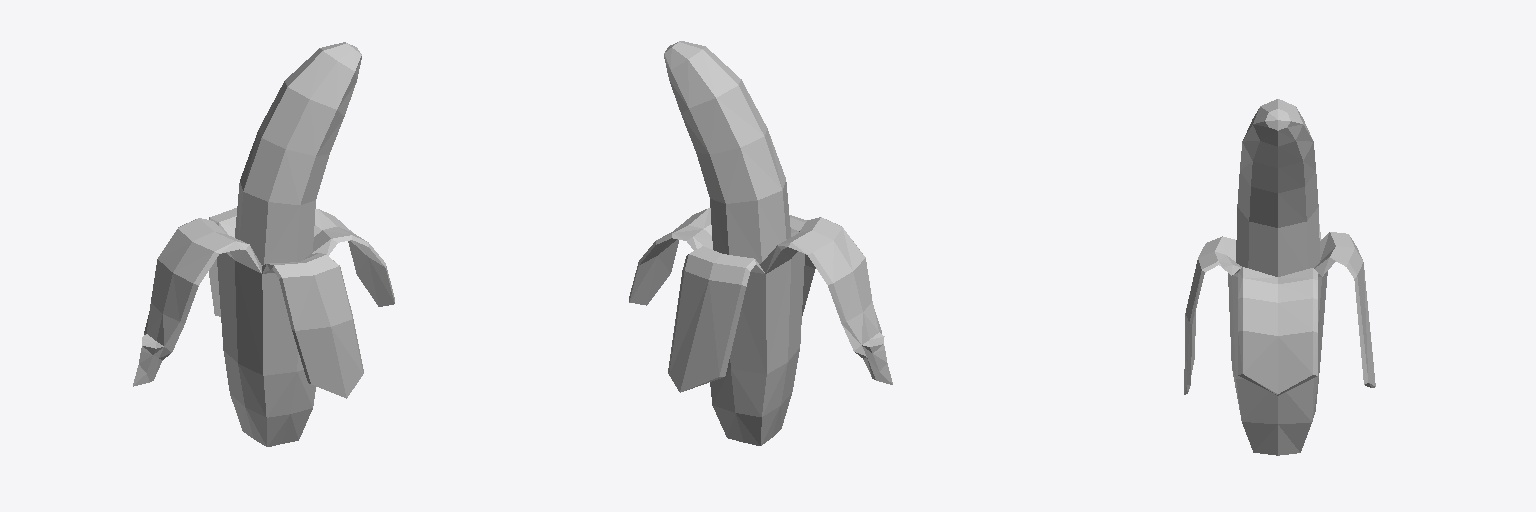
The model's file is banana.obj.
The picture shows the model from 3 angles: view 1: azimuth 30°, elevation 25°; view 2: azimuth 150°, elevation 25°; view 3: azimuth 270°, elevation 25°; orthographic projection.
Visible parts, largest first — view 1: banana.obj; view 2: banana.obj; view 3: banana.obj.
Part boxes in pixels (bbox=[...]): banana.obj: bbox=[133, 42, 394, 446]; banana.obj: bbox=[629, 41, 892, 445]; banana.obj: bbox=[1184, 99, 1375, 455].
Size of the model in its own units: 0.3826 by 0.5619 by 0.2552.